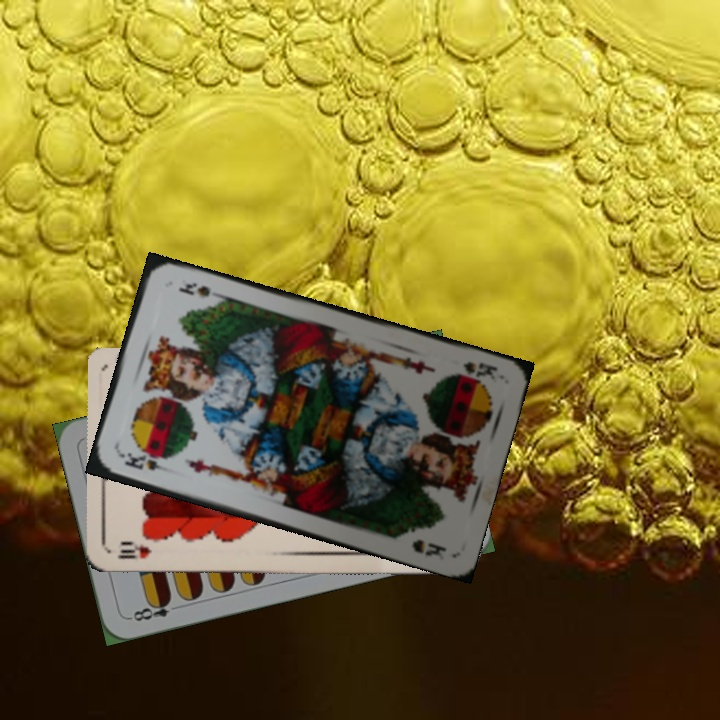E8: (125, 594, 184, 624)
H10: (114, 538, 154, 562)
SK: (116, 448, 174, 476), (451, 357, 501, 384)
